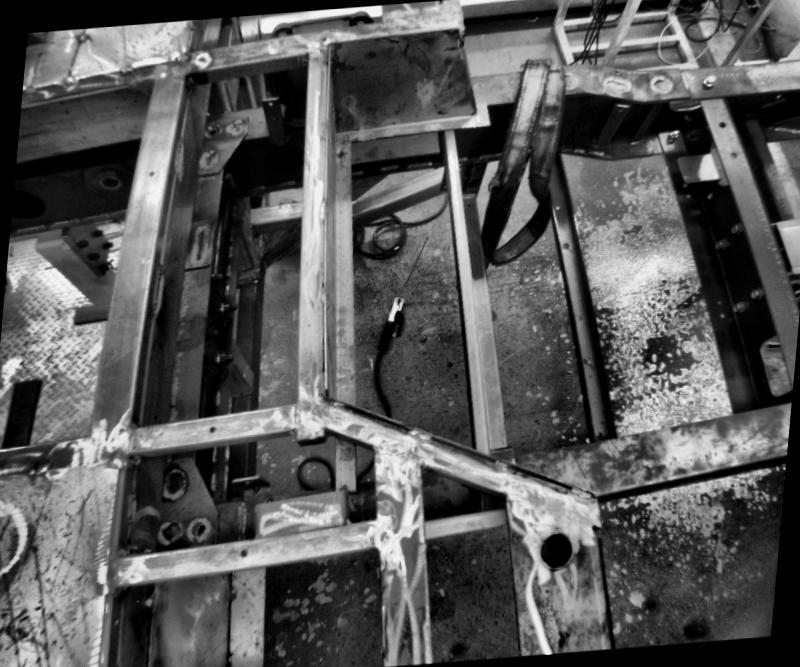bolt: (220, 298, 239, 314), (215, 349, 236, 363), (209, 267, 226, 284), (704, 68, 720, 85), (748, 282, 764, 298), (666, 126, 682, 140), (715, 236, 730, 248), (732, 220, 744, 233), (732, 298, 744, 310)
bracket: (224, 465, 282, 542), (670, 139, 726, 196), (752, 329, 796, 399), (1, 378, 41, 450), (255, 88, 296, 146), (67, 296, 112, 324)
hole: (536, 528, 578, 568), (206, 421, 218, 434), (10, 420, 23, 432), (238, 546, 250, 556), (584, 353, 593, 364), (198, 522, 207, 530), (596, 427, 604, 436), (554, 200, 562, 208), (562, 240, 570, 248), (721, 310, 729, 318), (720, 118, 729, 124), (732, 150, 740, 156), (716, 298, 722, 302), (268, 99, 273, 103), (150, 169, 154, 173), (467, 200, 470, 204)
